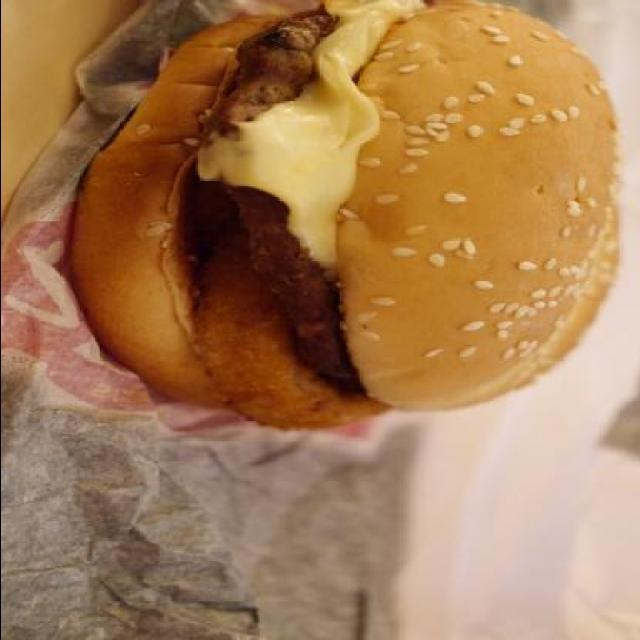Hamburger: (64, 0, 622, 434)
